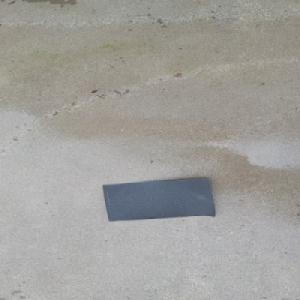PaintChip: (102, 177, 217, 222)
